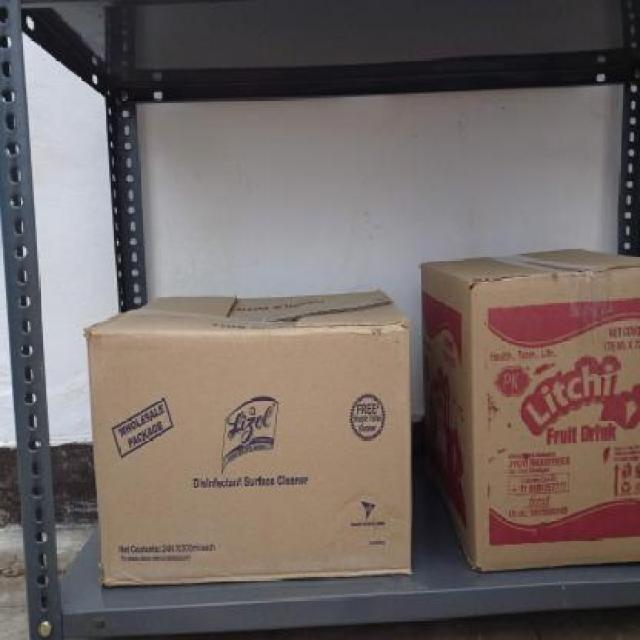box: (96, 319, 410, 584), (471, 276, 640, 564)
